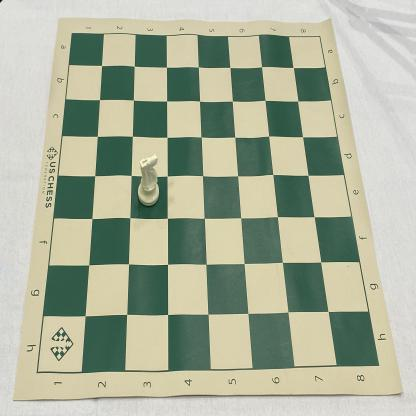white-knight: (137, 154, 160, 207)
